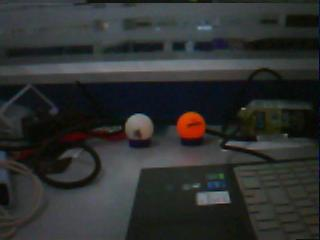oball: (177, 112, 207, 138)
